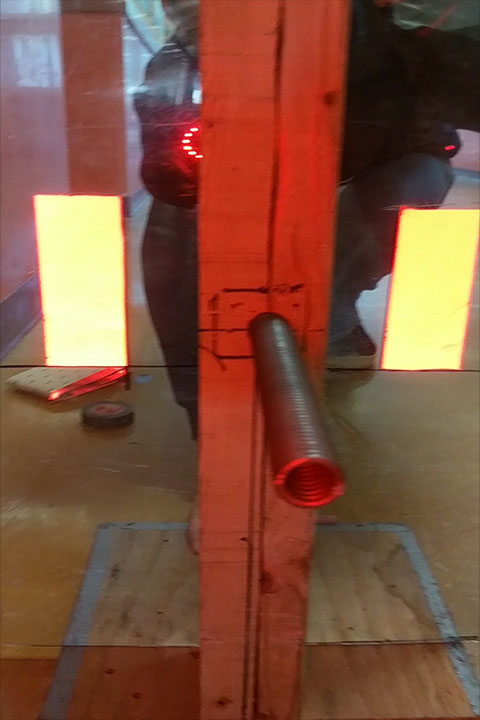gear: (32, 193, 130, 368), (378, 208, 480, 373)
